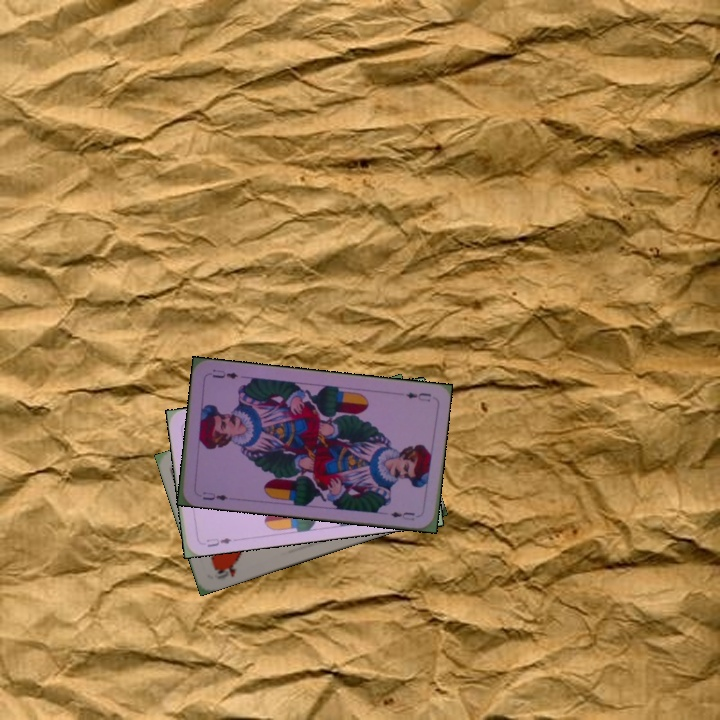EU: (203, 534, 234, 550), (199, 487, 230, 503), (402, 388, 433, 404)
HO: (211, 558, 240, 582)
